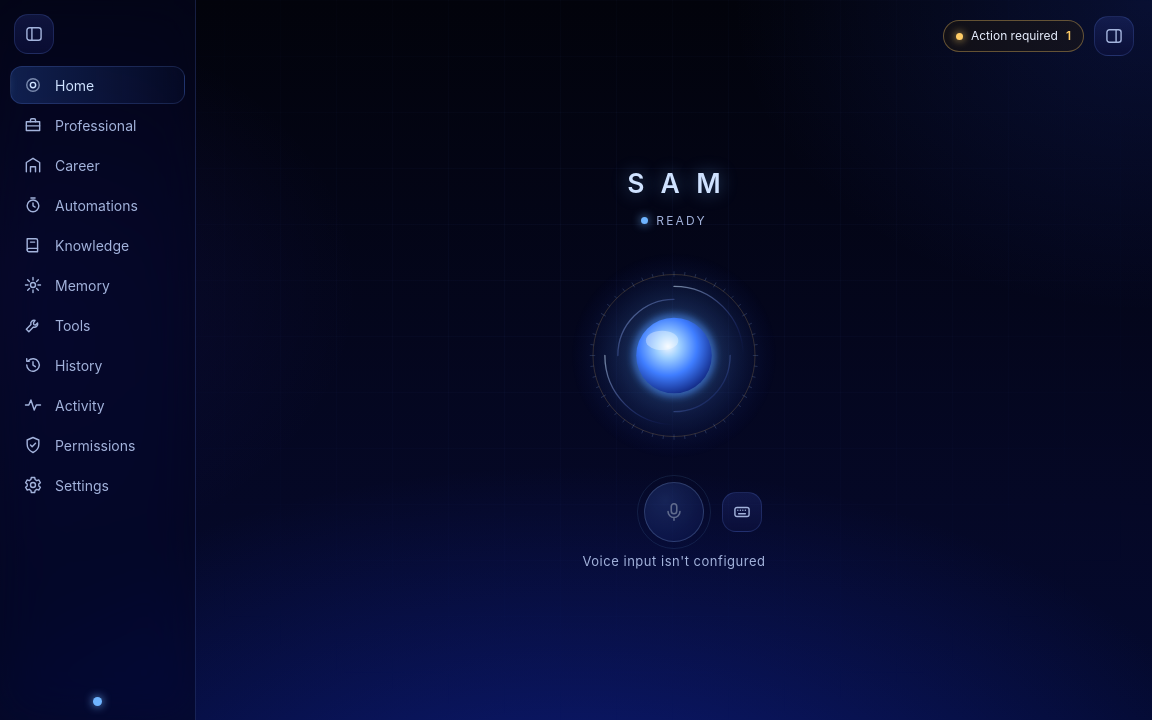
Owner voice settings › shows enrollment state and safe last-verification text only
Check: the message named "Connection: Connected" is shown, box 93,697 -> 102,706
Click the button "Settings".
click(98, 485)  # box 10,466 -> 185,504
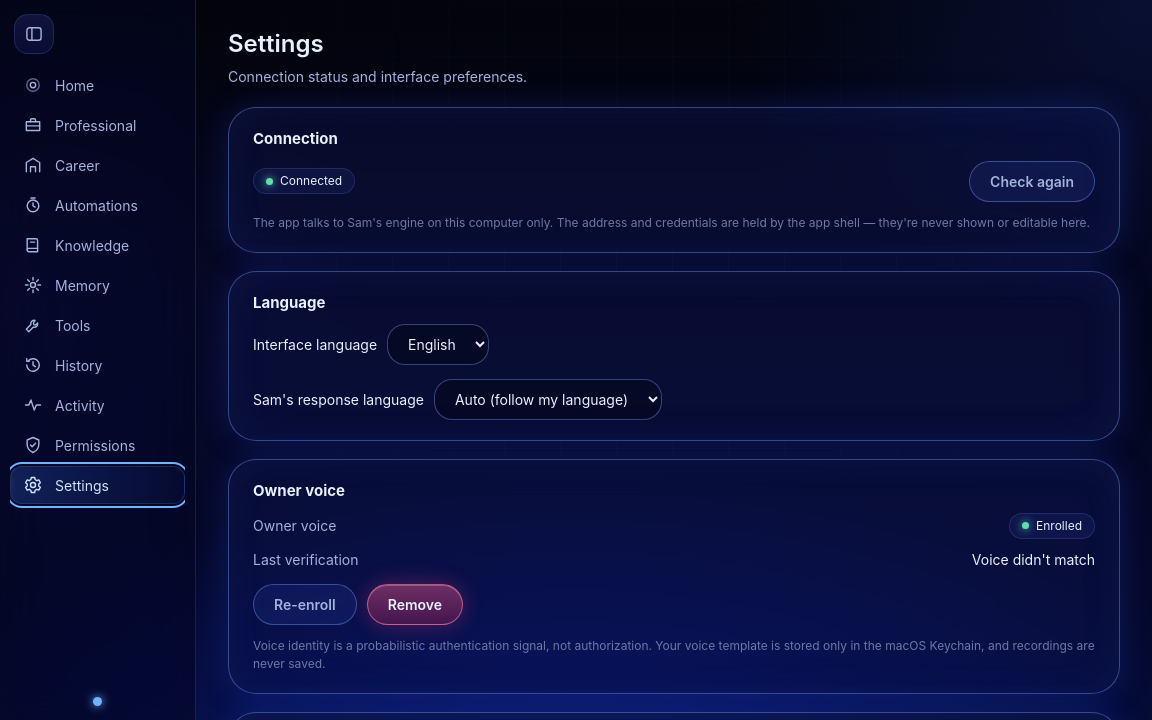
Check: the text "Enrolled" is shown, box 1036,516 -> 1082,534
Check: the text "Voice didn't match" is shown, box 972,548 -> 1095,570
Check: the button "Re-enroll" is shown, box 253,584 -> 357,624
